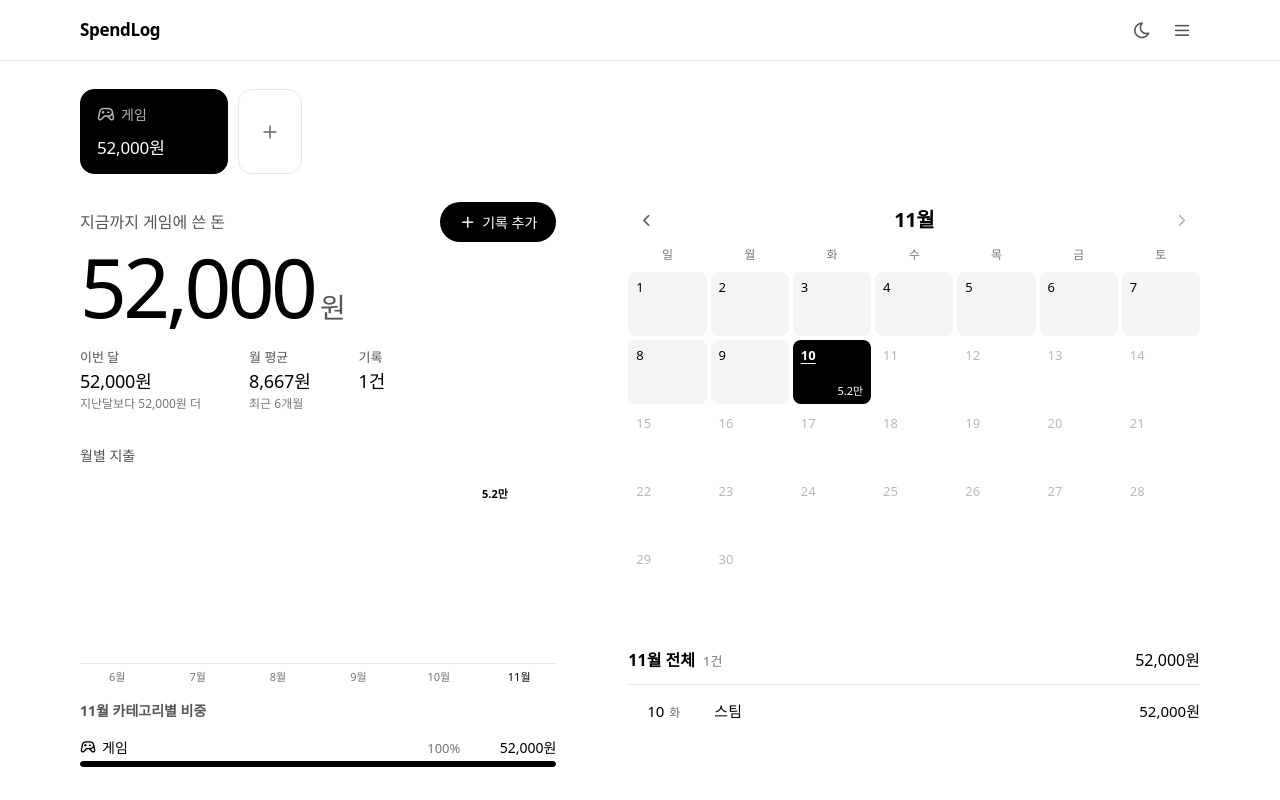
it: App theme without storage › renders with the default theme and still toggles
Expected: the button with aria-label "스팀 수정" is shown, [620,689,1208,732]
Click the button named "다크 모드로 전환": (1142, 30) [1124,12,1160,48]
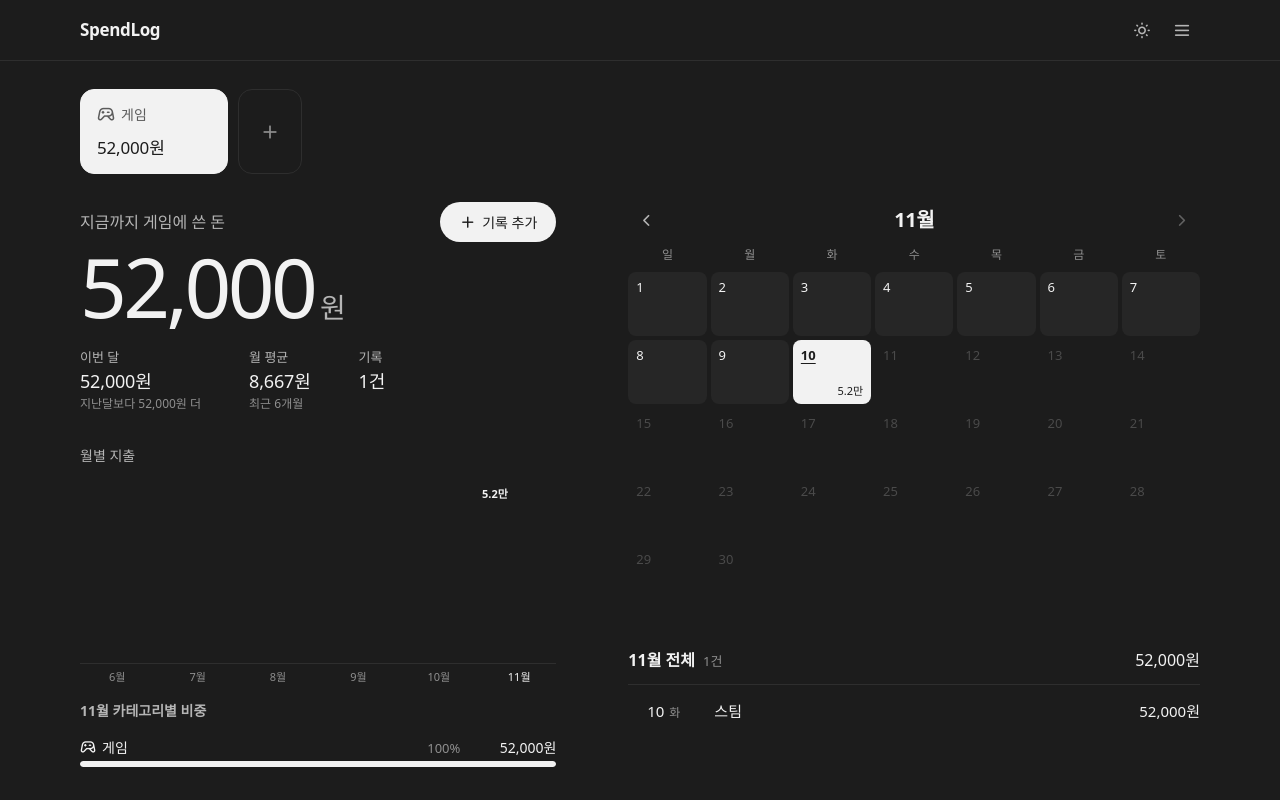
Expected: the button named "라이트 모드로 전환" is shown, [1124,12,1160,48]
